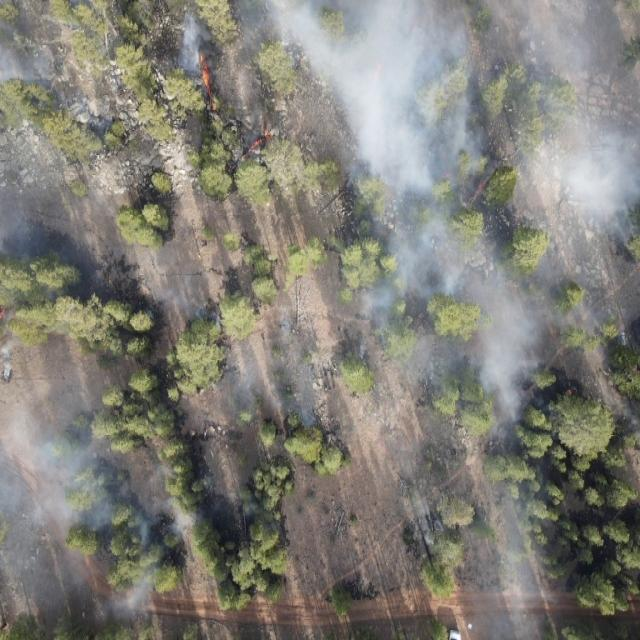fire: (230, 128, 273, 168), (197, 54, 220, 114), (369, 60, 386, 92), (469, 178, 485, 206), (0, 304, 10, 324), (440, 166, 452, 182), (567, 387, 573, 398)
smoke: (241, 0, 640, 140), (358, 273, 616, 432), (336, 139, 640, 272), (0, 413, 198, 614), (407, 491, 553, 640), (268, 310, 324, 430), (0, 0, 66, 98), (131, 270, 219, 328), (0, 195, 57, 257), (180, 0, 215, 80), (226, 364, 252, 414)
